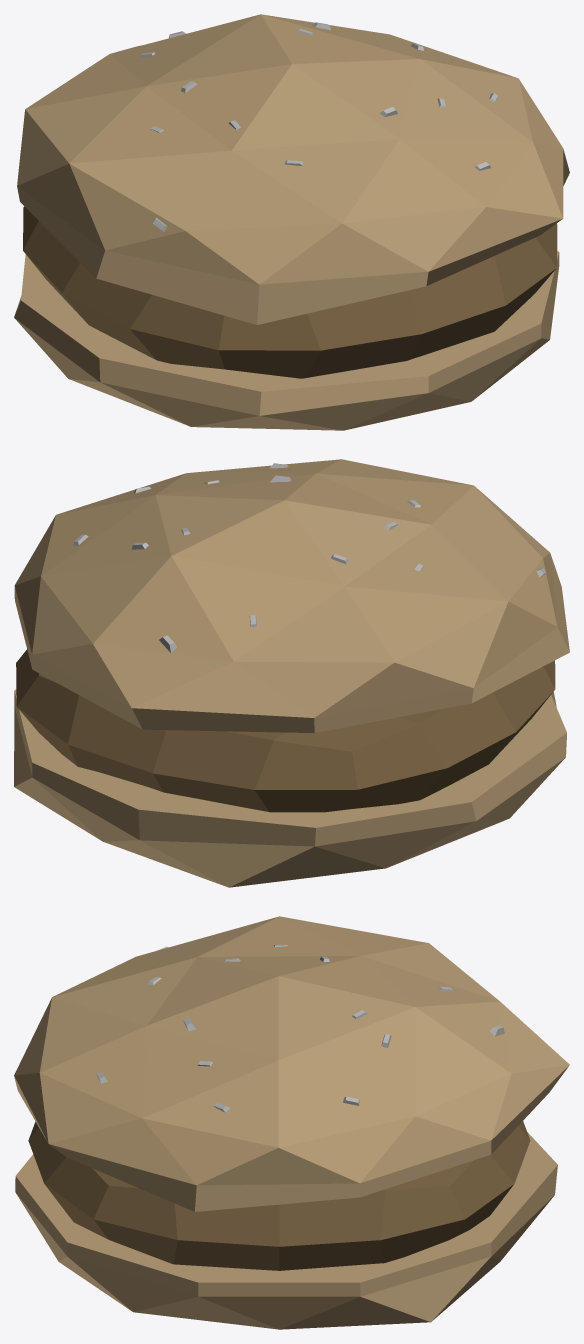
File: Burger_Plain.glb
3 views of the same model, one above another, from view 1: azimuth 30°, elevation 25°; view 2: azimuth 150°, elevation 25°; view 3: azimuth 270°, elevation 25° (orthographic). The views are drawn at different scales.
Visible parts, largest first — view 1: Burger; view 2: Burger; view 3: Burger.
Boxes of the visible parts, <box> form: Burger: <box>14,14,569,430</box>; Burger: <box>14,459,569,887</box>; Burger: <box>14,916,569,1329</box>.
Bounding box in the file's own units: 1.48 × 0.9355 × 1.58.
